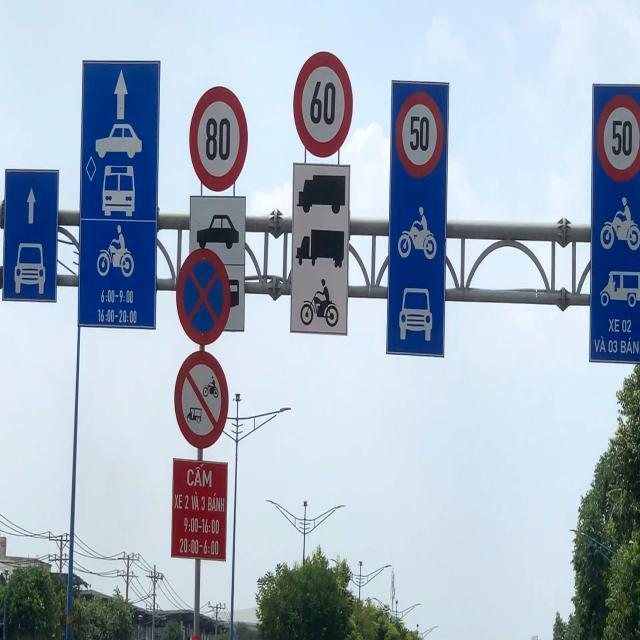127-toc-do-toi-da-50: (396, 95, 444, 171), (592, 98, 640, 172)
127-toc-do-toi-da-60: (294, 49, 354, 154)
127-toc-do-toi-da-80: (187, 86, 247, 186)
130-cam-dung-va-do-xe: (176, 247, 232, 345)
